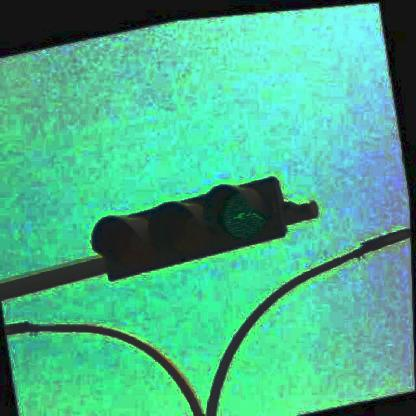Traffic Light -Green-: (91, 171, 291, 277)
